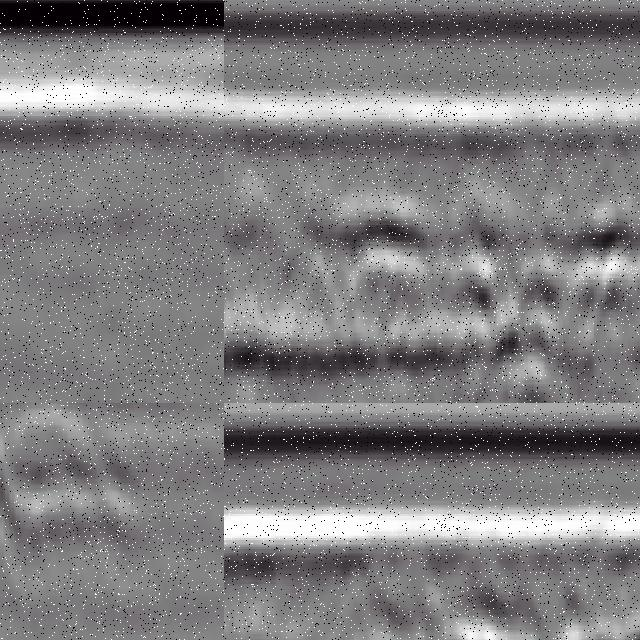crack: (1, 404, 44, 640)
loose: (342, 200, 640, 351)
